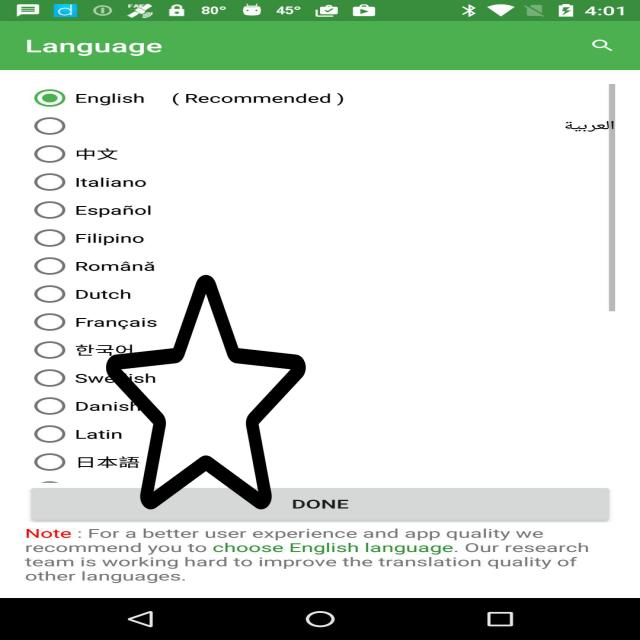forced continuity: (106, 270, 306, 514)
